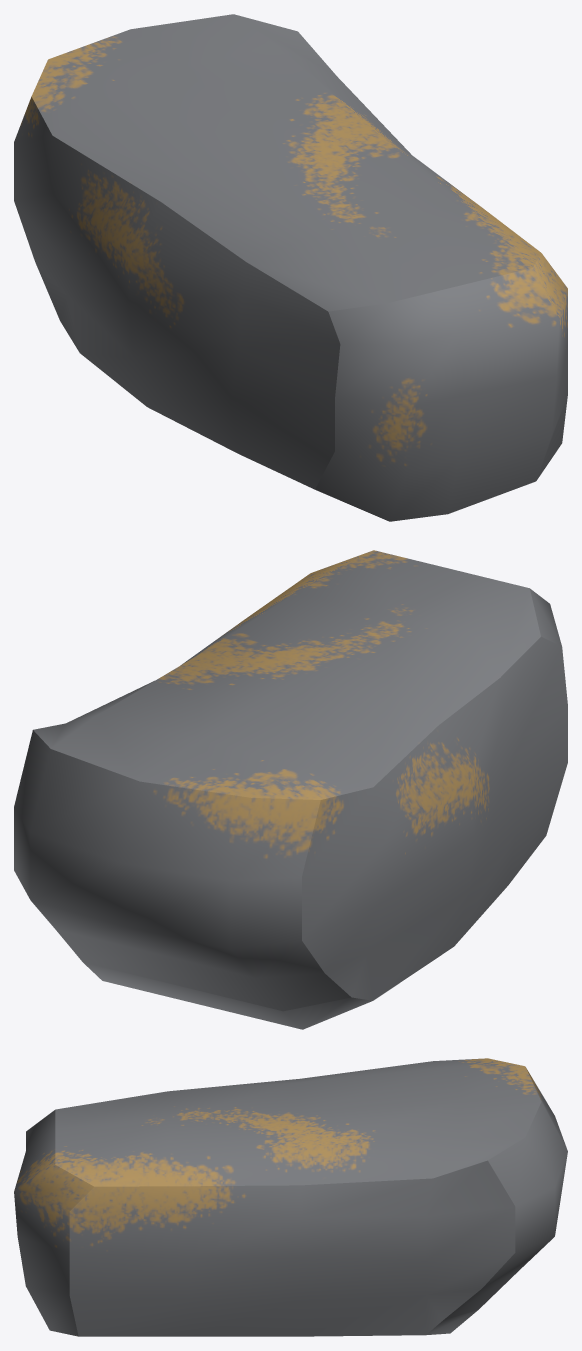
File: boulder1.fbx
The picture shows the model from 3 angles, top to bottom: view 1: azimuth 30°, elevation 25°; view 2: azimuth 150°, elevation 25°; view 3: azimuth 270°, elevation 25°; orthographic projection. The views are drawn at different scales.
Parts seen in each view (by area): view 1: Boulder1; view 2: Boulder1; view 3: Boulder1.
Boxes of the visible parts, bbox=[...] form: Boulder1: bbox=[14, 14, 567, 521]; Boulder1: bbox=[14, 550, 567, 1029]; Boulder1: bbox=[14, 1058, 567, 1336].
Size of the model in its own units: 60.1 by 46.39 by 117.
1 material, 1 textured.
